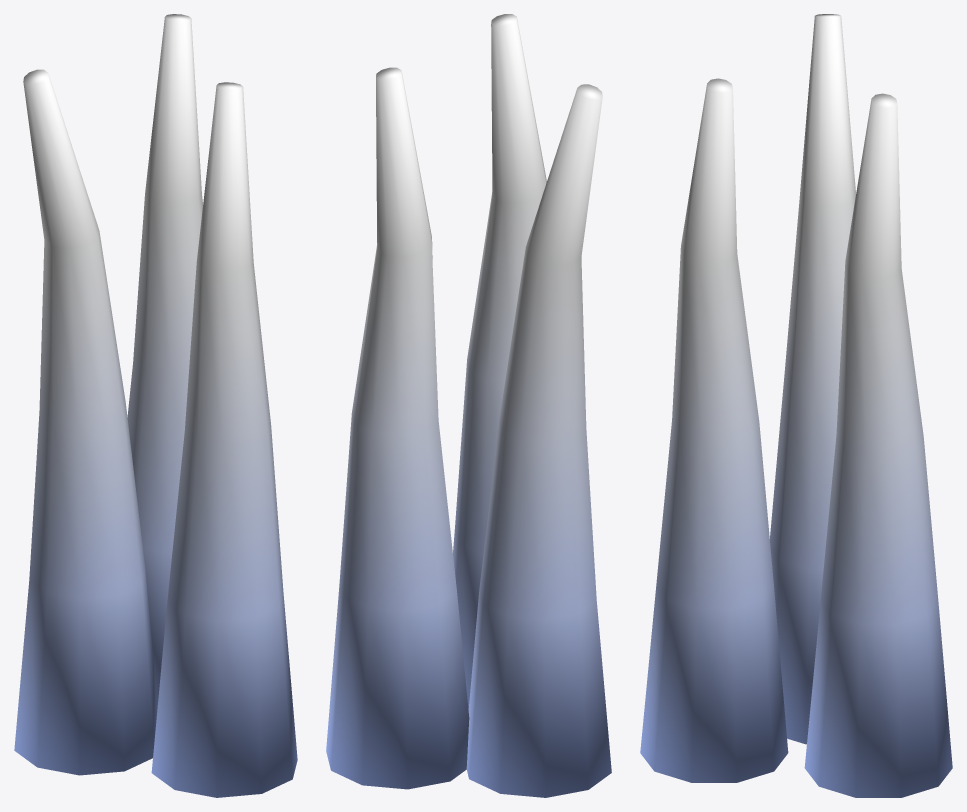
Rendered from Grass011.fbx.
3 renders of one model, left to right at view 1: azimuth 30°, elevation 25°; view 2: azimuth 150°, elevation 25°; view 3: azimuth 270°, elevation 25°, orthographic.
Parts seen in each view (by area): view 1: Grass011; view 2: Grass011; view 3: Grass011.
Part boxes in pixels (left/top/right/bottom): Grass011: left=14, top=14, right=297, bottom=797; Grass011: left=326, top=14, right=611, bottom=797; Grass011: left=640, top=14, right=952, bottom=797.
Size of the model in its own units: 39.96 by 111 by 46.49.
